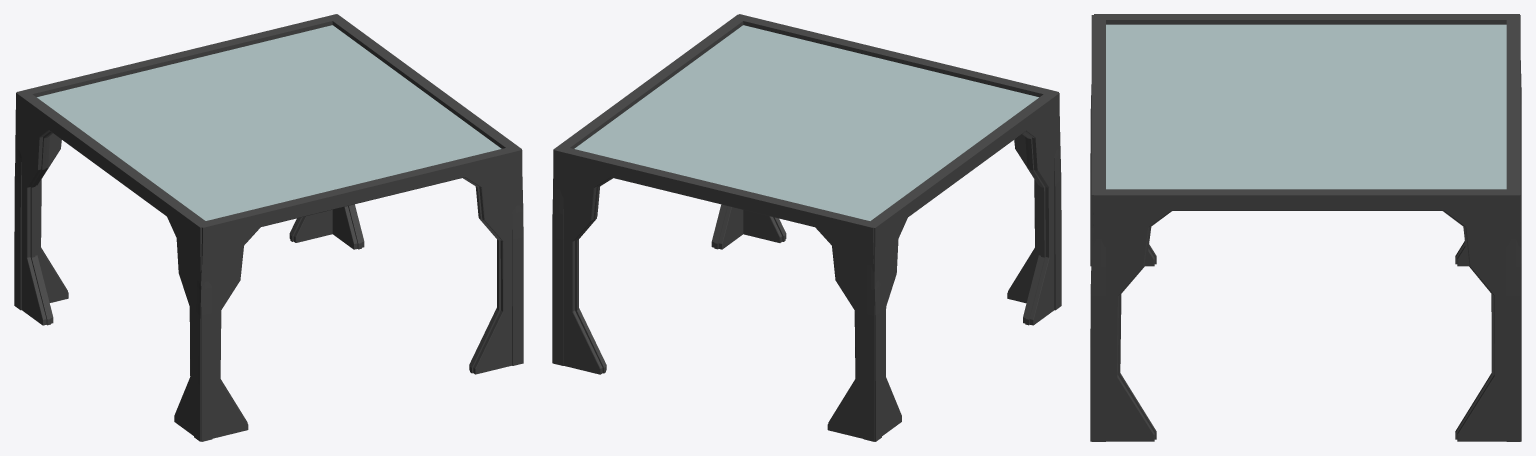
The model's file is Hallway_Module_Cross_01.glb.
The picture shows the model from 3 angles, left to right: view 1: azimuth 30°, elevation 25°; view 2: azimuth 150°, elevation 25°; view 3: azimuth 270°, elevation 25°; orthographic projection. The views are drawn at different scales.
Parts seen in each view (by area): view 1: Hallway_Module_Cross_01; view 2: Hallway_Module_Cross_01; view 3: Hallway_Module_Cross_01.
Boxes of the visible parts, x1,y1,x2,y2 form: Hallway_Module_Cross_01: (14, 14, 523, 441); Hallway_Module_Cross_01: (552, 14, 1061, 441); Hallway_Module_Cross_01: (1090, 14, 1521, 441).
Size of what is drawn, in the model's own units: 6.03 by 3.8 by 6.03.
2 materials, 2 textured.
